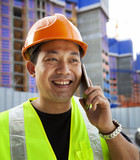phone: (78, 62, 92, 111)
talk: (39, 47, 112, 128)
